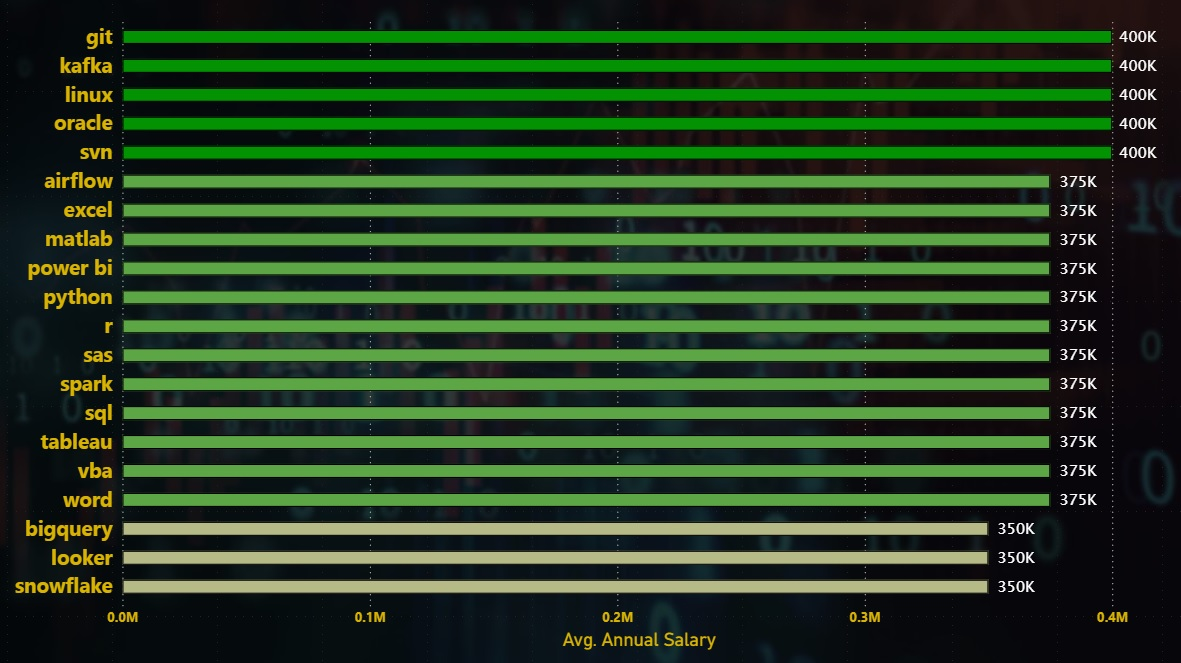

What the dashboard file says about the page in this screenshot:
{"tool":"powerbi","page":{"name":"Q2 - Skills Related to Top Paying Jobs","canvas":[1280,720],"ordinal":1},"visuals":[{"type":"clusteredBarChart","fields":{"Category":["2_skills_for_top10_jobs (2).skill_name"],"Y":["Max(2_skills_for_top10_jobs (2).annual_salary)"]},"box":[192,112,1064,592],"z":0},{"type":"textbox","box":[168,16,1112,80],"z":1000},{"type":"actionButton","box":[0,120,168,40],"z":2000},{"type":"actionButton","box":[0,176,168,40],"z":3000},{"type":"actionButton","box":[0,224,168,40],"z":4000},{"type":"actionButton","box":[0,280,168,40],"z":5000},{"type":"actionButton","box":[0,336,168,40],"z":6000},{"type":"actionButton","box":[16,16,48,40],"z":6001},{"type":"actionButton","box":[72,40,40,32],"z":6002}]}

Visuals, with their boxes in screenshot pixels (x1, y1, x2, y2), scaled from the page's 1280x720 canvas onto the 1181x663 screenshot:
clusteredBarChart - 2_skills_for_top10_jobs (2).skill_name x Max(2_skills_for_top10_jobs (2).annual_salary): 177 103 1159 648
textbox: 155 15 1180 88
actionButton: 0 110 155 147
actionButton: 0 162 155 199
actionButton: 0 206 155 243
actionButton: 0 258 155 295
actionButton: 0 309 155 346
actionButton: 15 15 59 52
actionButton: 66 37 103 66
